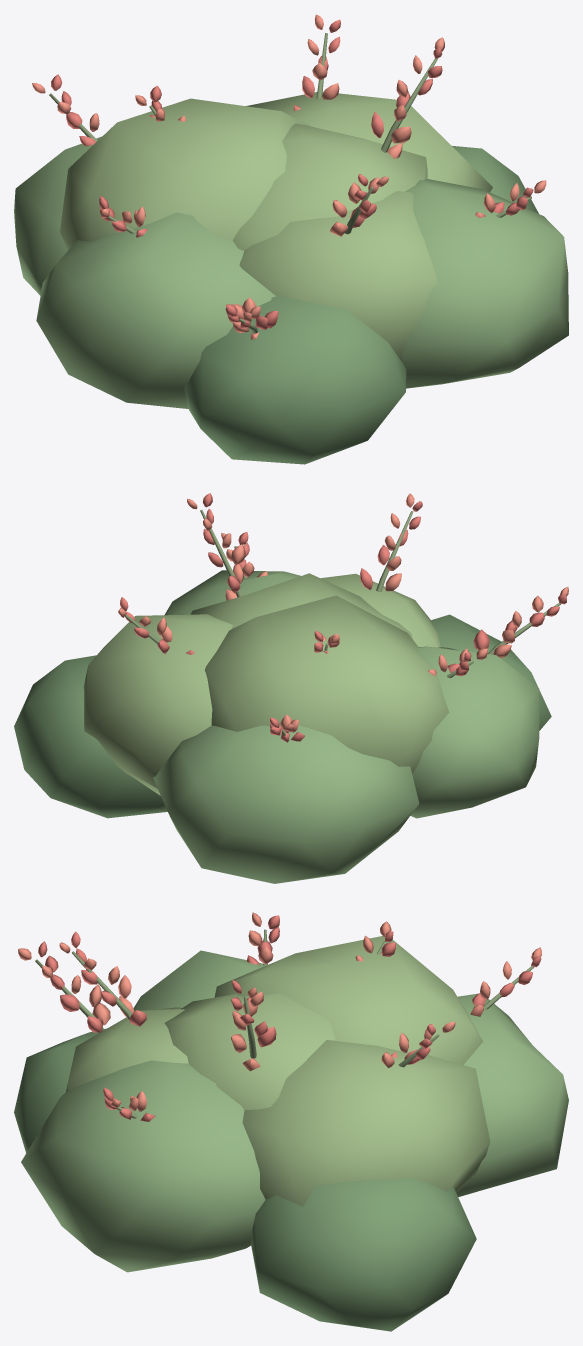
File: ceibo_bush_4.glb
The picture shows the model from 3 angles, top to bottom: view 1: azimuth 30°, elevation 25°; view 2: azimuth 150°, elevation 25°; view 3: azimuth 270°, elevation 25°; orthographic projection. The views are drawn at different scales.
Visible parts, largest first — view 1: CeiboLeafM, CeiboLeafL, CeiboLeafD, CeiboPetal, CeiboFlower, CeiboWood; view 2: CeiboLeafL, CeiboLeafM, CeiboLeafD, CeiboPetal, CeiboFlower, CeiboWood; view 3: CeiboLeafL, CeiboLeafM, CeiboLeafD, CeiboPetal, CeiboFlower, CeiboWood.
Boxes of the visible parts, box(x1,y1,x2,y2) form: CeiboLeafM: box(14, 136, 568, 408); CeiboLeafL: box(60, 91, 492, 361); CeiboLeafD: box(184, 146, 538, 464); CeiboPetal: box(32, 14, 546, 339); CeiboFlower: box(51, 19, 533, 329); CeiboWood: box(49, 33, 531, 333); CeiboLeafL: box(83, 573, 449, 795); CeiboLeafM: box(153, 570, 539, 883); CeiboLeafD: box(14, 614, 551, 818); CeiboPetal: box(118, 493, 568, 735); CeiboFlower: box(120, 493, 566, 742); CeiboWood: box(125, 510, 560, 741); CeiboLeafL: box(66, 936, 490, 1206); CeiboLeafM: box(21, 950, 568, 1272); CeiboLeafD: box(14, 1028, 476, 1331); CeiboPetal: box(18, 912, 541, 1111); CeiboFlower: box(38, 915, 541, 1121); CeiboWood: box(35, 929, 534, 1118).
Bounding box in the file's own units: 1.98 × 1.14 × 1.86.
